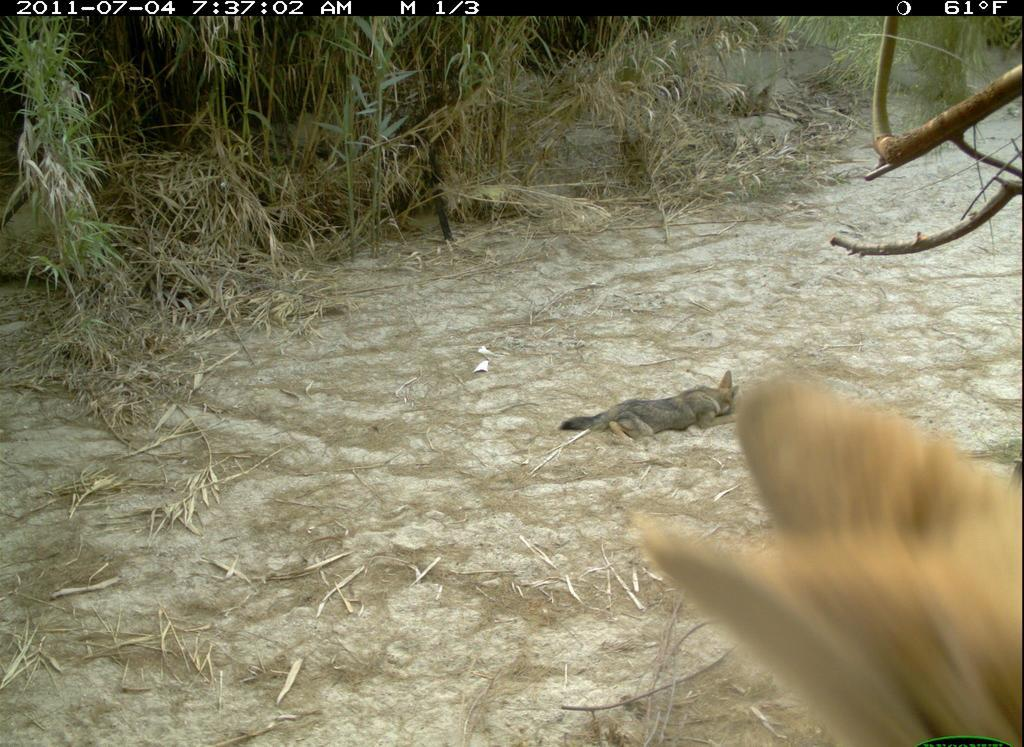coyote: (545, 347, 769, 460)
